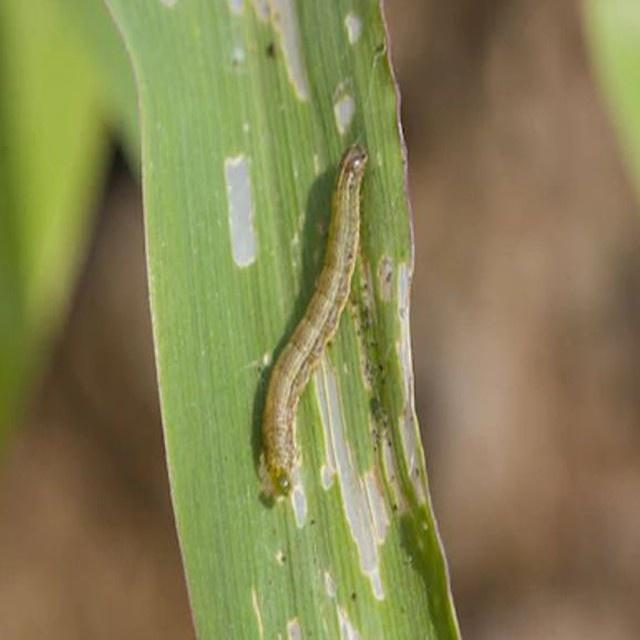Plaga: (261, 139, 383, 491)
